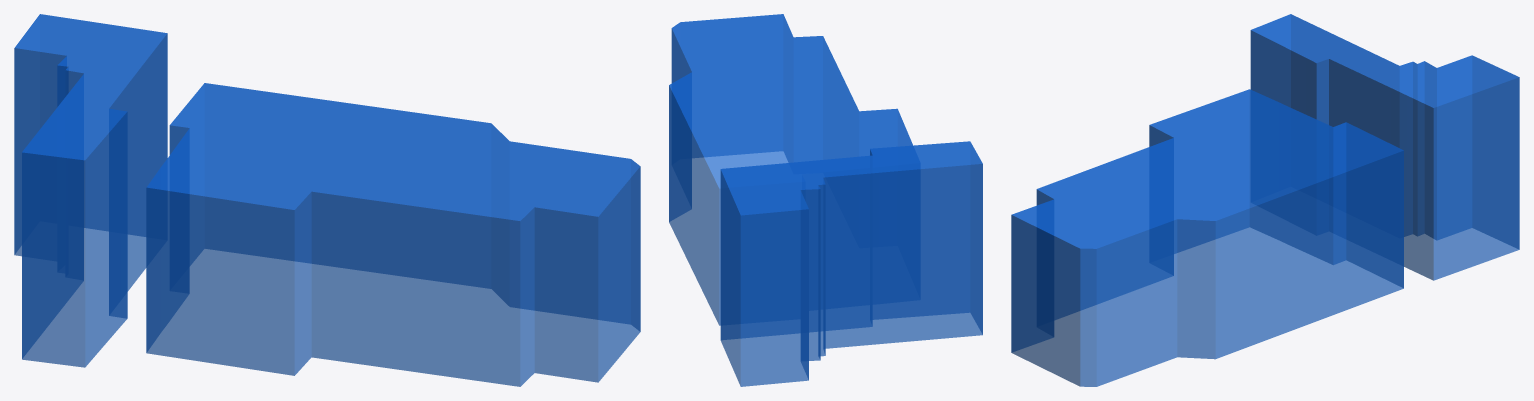
The model's file is gardenarea.glb.
3 renders of one model, left to right at view 1: azimuth 30°, elevation 25°; view 2: azimuth 150°, elevation 25°; view 3: azimuth 270°, elevation 25°, orthographic. The views are drawn at different scales.
Visible parts, largest first — view 1: gardenarea; view 2: gardenarea; view 3: gardenarea.
Boxes of the visible parts, x1,y1,x2,y2 form: gardenarea: [14, 14, 640, 386]; gardenarea: [669, 14, 982, 386]; gardenarea: [1011, 14, 1519, 386].
Size of the model in its own units: 149 by 60 by 160.
